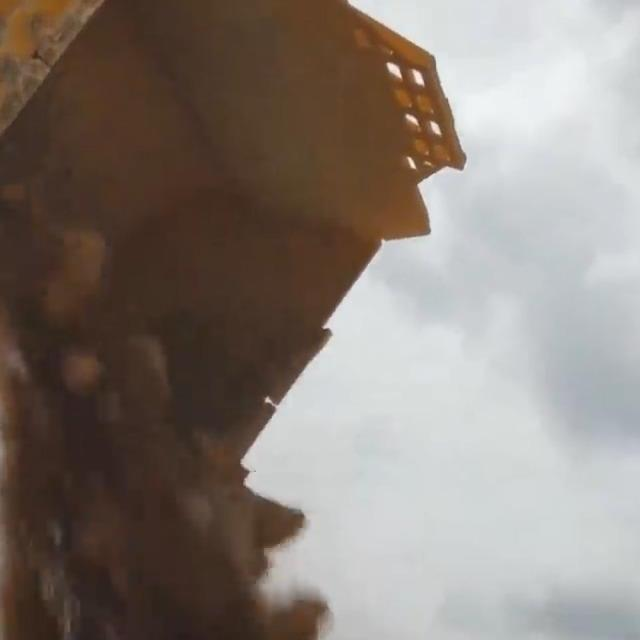wheel loader: (0, 0, 468, 434)
